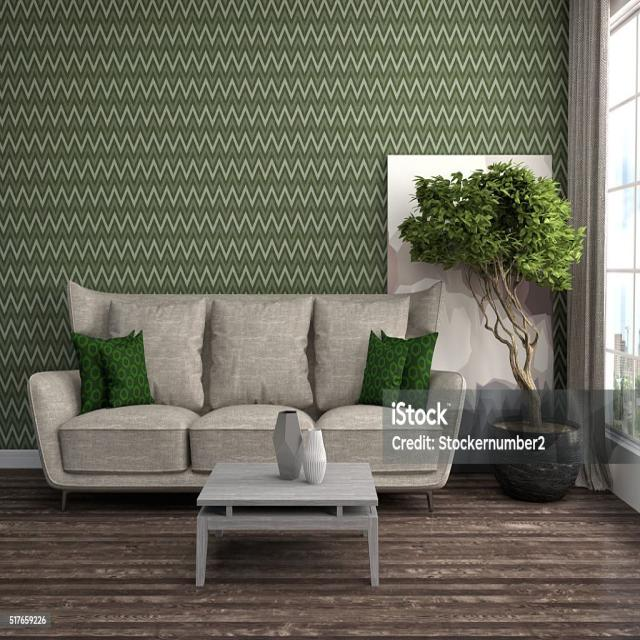back_cushion: (69, 283, 441, 413)
base: (56, 470, 208, 492), (372, 466, 446, 491)
left_arm: (428, 370, 466, 439), (438, 448, 452, 466)
legs: (427, 491, 434, 512), (61, 490, 68, 510)
right_arm: (28, 370, 79, 488)
seat_cushion: (58, 405, 284, 474), (315, 406, 441, 474)
stallion-sofa: (29, 281, 463, 490)
